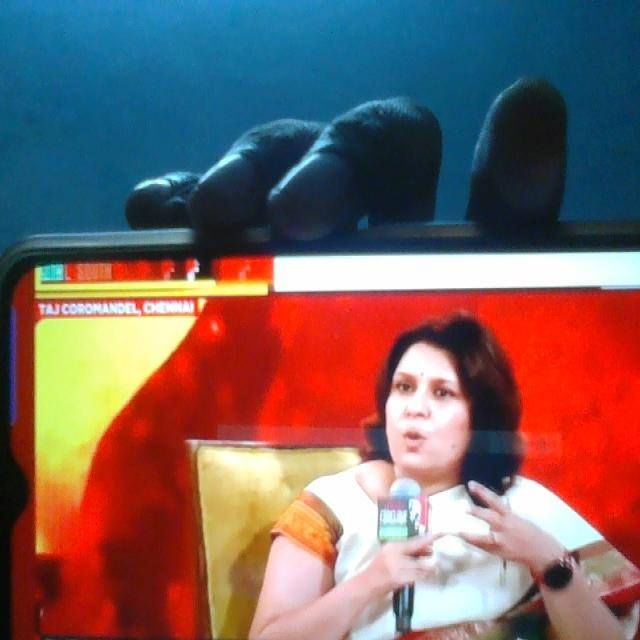fake: (372, 295, 486, 509)
